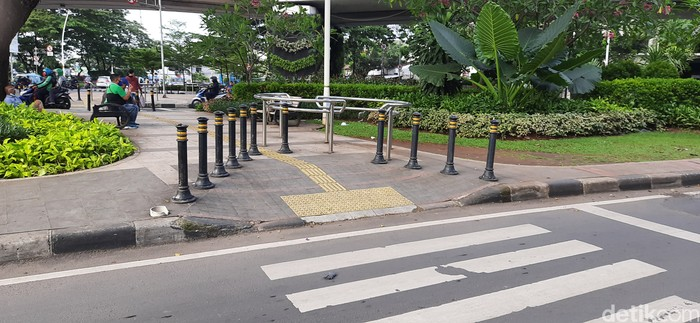bollard: (173, 124, 192, 204), (196, 114, 210, 195), (213, 112, 225, 182), (227, 111, 238, 172), (446, 117, 456, 173), (486, 121, 495, 178), (411, 112, 419, 173), (376, 111, 385, 164), (281, 107, 291, 153)
zebracross: (264, 220, 700, 301)
